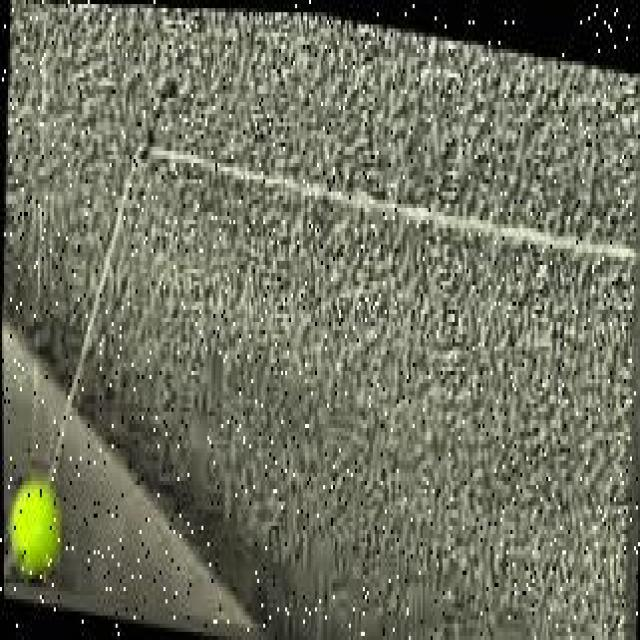tennis-ball: (7, 475, 63, 585)
